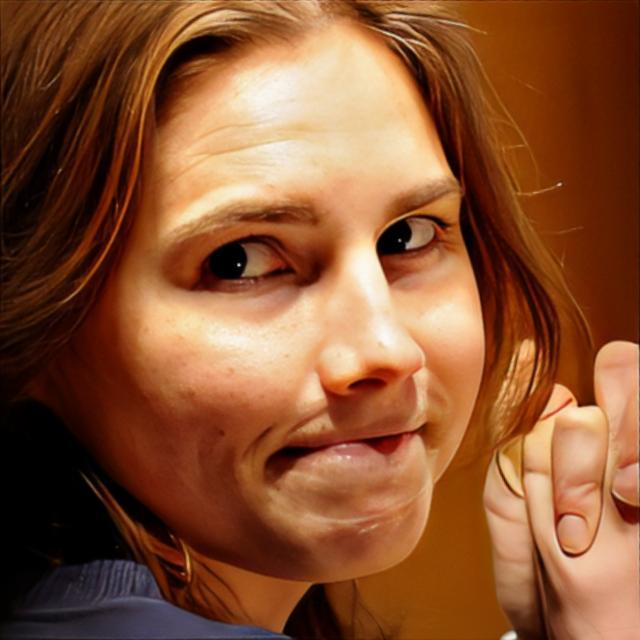content: (103, 0, 486, 588)
